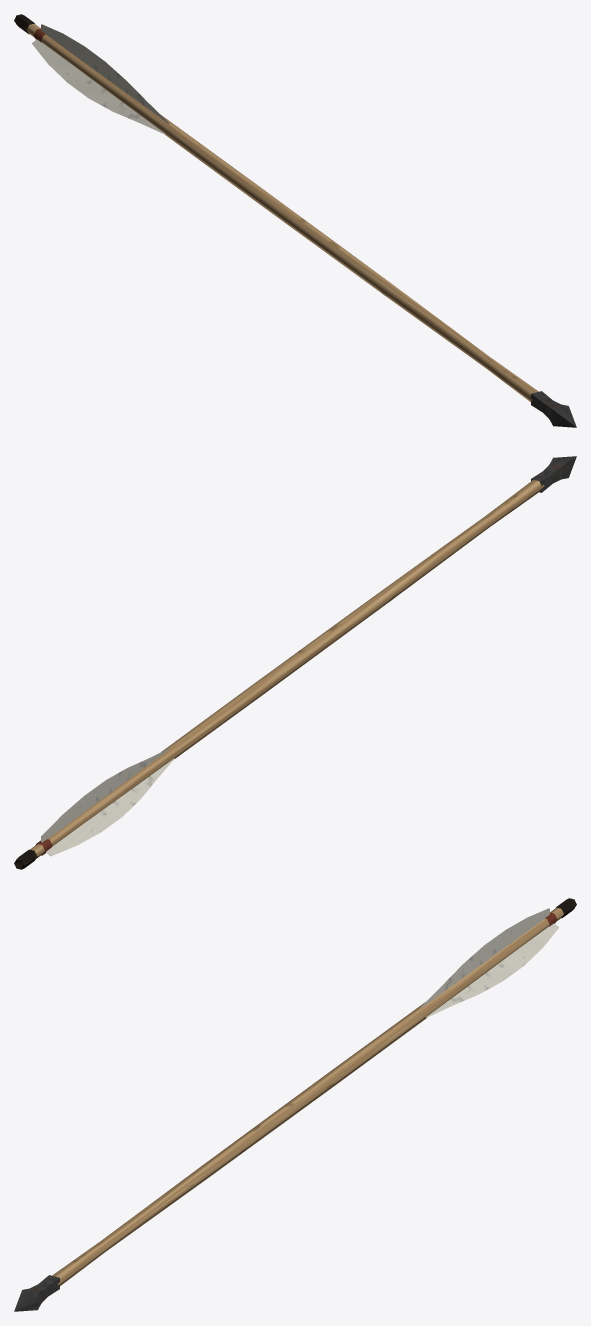
The model's file is Arrow_BodkinShort.fbx.
3 renders of one model, top to bottom at view 1: azimuth 30°, elevation 25°; view 2: azimuth 150°, elevation 25°; view 3: azimuth 330°, elevation 25°, orthographic.
Visible parts, largest first — view 1: Arrow_BodkinShort_Shaft, Arrow_BodkinShort_Fletching, Arrow_BodkinShort_Arrowhead; view 2: Arrow_BodkinShort_Shaft, Arrow_BodkinShort_Fletching, Arrow_BodkinShort_Arrowhead; view 3: Arrow_BodkinShort_Shaft, Arrow_BodkinShort_Fletching, Arrow_BodkinShort_Arrowhead.
Part boxes in pixels (x1,y1,x2,y2): Arrow_BodkinShort_Shaft: [27, 23, 538, 401]; Arrow_BodkinShort_Fletching: [32, 24, 169, 134]; Arrow_BodkinShort_Arrowhead: [531, 391, 576, 427]; Arrow_BodkinShort_Shaft: [30, 480, 544, 858]; Arrow_BodkinShort_Fletching: [41, 748, 174, 856]; Arrow_BodkinShort_Arrowhead: [531, 456, 576, 492]; Arrow_BodkinShort_Shaft: [52, 907, 563, 1285]; Arrow_BodkinShort_Fletching: [420, 908, 558, 1017]; Arrow_BodkinShort_Arrowhead: [14, 1275, 59, 1311].
Size of the model in its own units: 0.0958 by 0.0845 by 2.61.
1 material, 1 textured.
